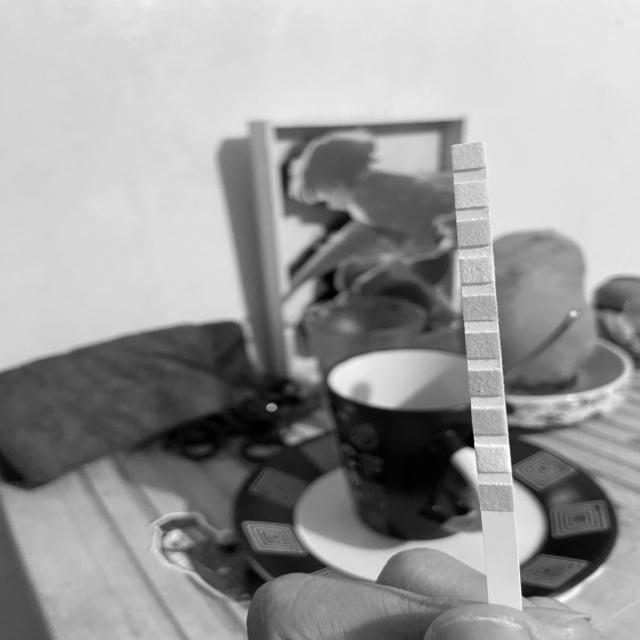Bilirubin: (479, 448, 506, 470)
Blood: (468, 335, 498, 358)
Glucose: (483, 485, 511, 510)
Ketone: (476, 409, 504, 434)
Leukocytes: (454, 146, 483, 167)
Nitrite: (457, 184, 486, 206)
Protein: (463, 259, 492, 281)
SpGravity: (472, 371, 501, 395)
Urobilinogen: (459, 222, 490, 244)
background: (0, 0, 640, 640)
pH: (465, 298, 495, 318)
strip: (452, 143, 523, 602)
